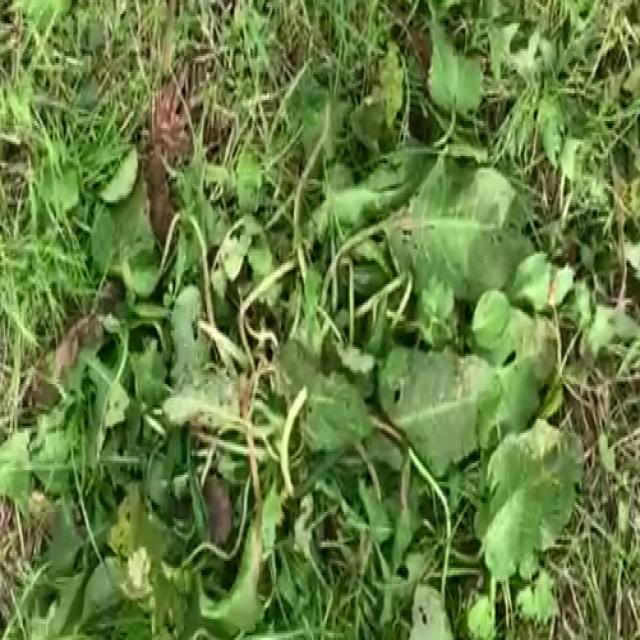organic waste: (28, 30, 558, 640)
